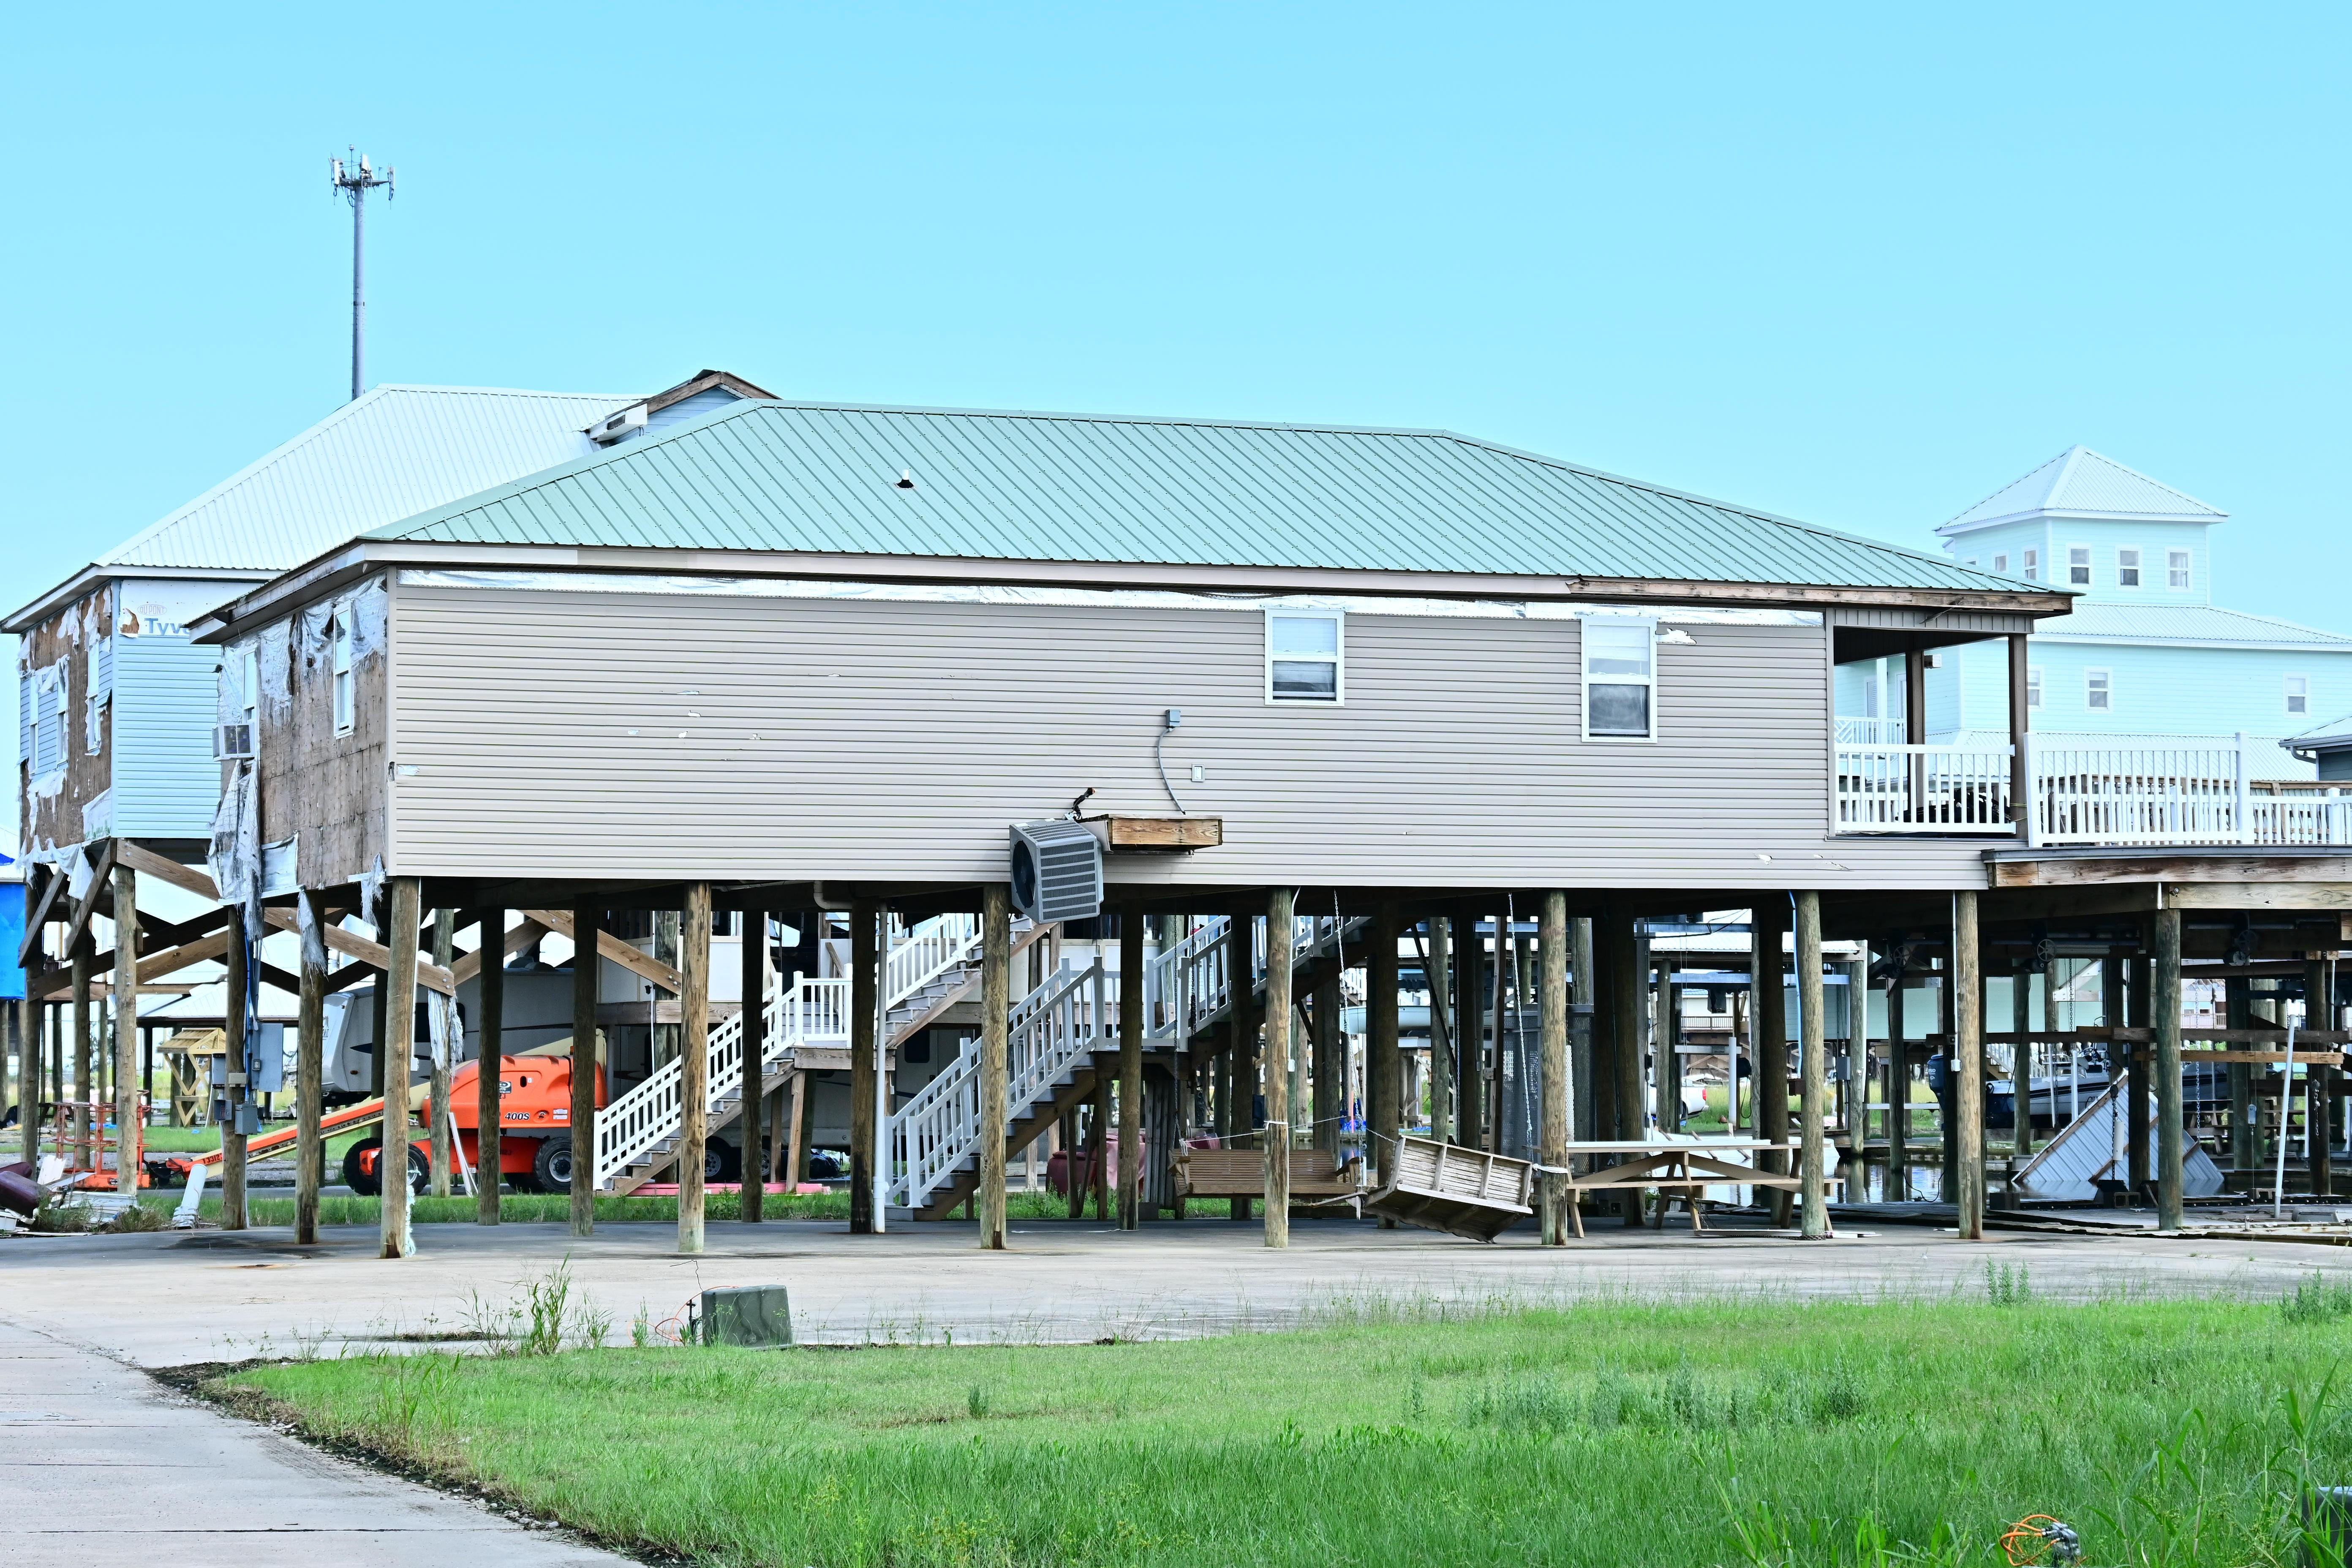minor: (221, 389, 2339, 1228)
